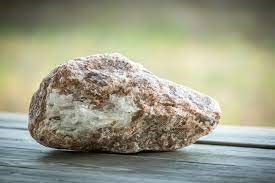rock: (28, 52, 222, 155)
